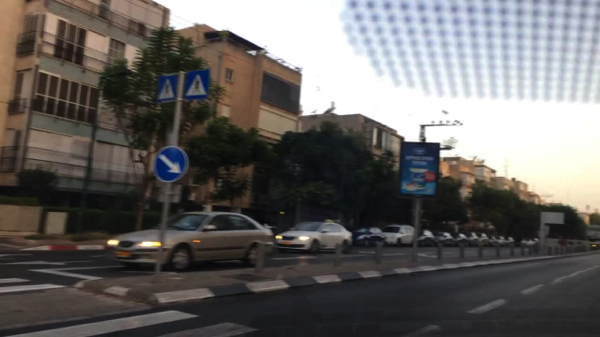car: (104, 212, 275, 272), (274, 222, 352, 253), (379, 225, 415, 247), (351, 227, 386, 247), (414, 229, 435, 247), (432, 232, 454, 249), (451, 232, 469, 247), (476, 233, 491, 247), (465, 233, 478, 247), (487, 235, 499, 247), (495, 235, 506, 247), (504, 236, 515, 248), (520, 237, 533, 247), (530, 237, 539, 246), (589, 244, 596, 250)
traffic sign: (154, 147, 188, 182), (184, 68, 209, 100), (157, 75, 178, 102), (543, 212, 562, 226)
